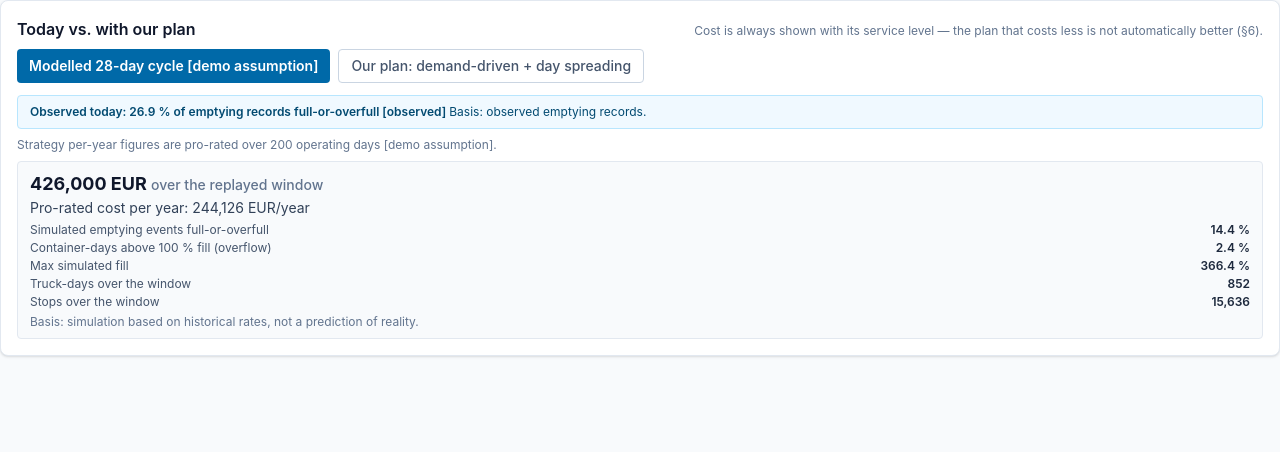
TodayPlanToggle — cost + service together (§6) › flags cost-less-with-unchanged-service as unchanged, not an improvement (matrix case 5)
Step 1. Click the button with test id "toggle-plan" → (491, 66), box [338,49,644,83]
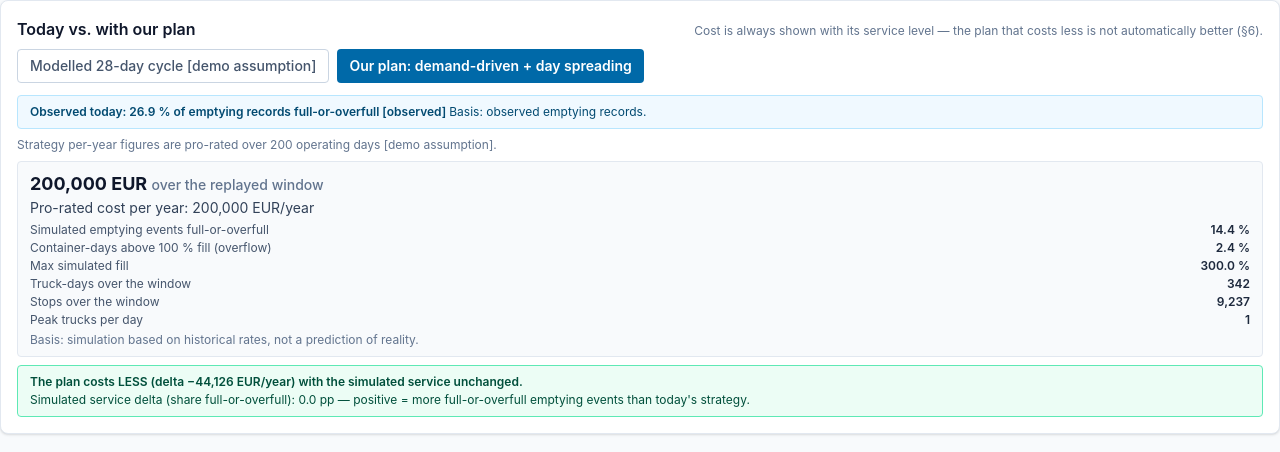
Expected: the element with test id "toggle-tradeoff" shows "costs LESS", [30,374,523,389]
Expected: the element with test id "toggle-tradeoff" shows "unchanged", [30,374,523,389]
Expected: the element with test id "toggle-tradeoff" shows "0.0 pp", [30,392,750,407]
